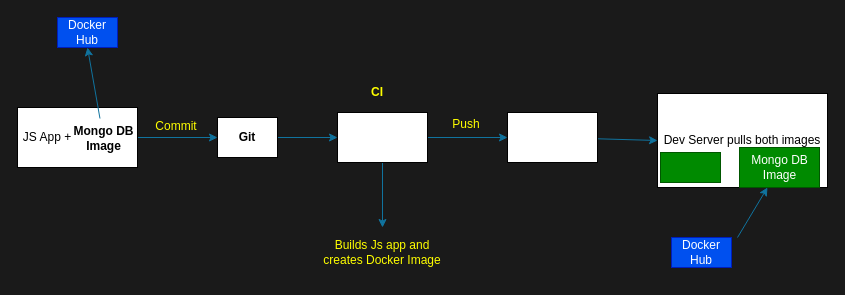
This 845x295 diagram has some shape labels left out. The shapes that lost their labels are listed below. From the top down, each one's centre as x and y in pixels, then its label:
At (382,137): "Jenkins".
At (552,137): "Docker Repo".
At (690,167): "JS App".
